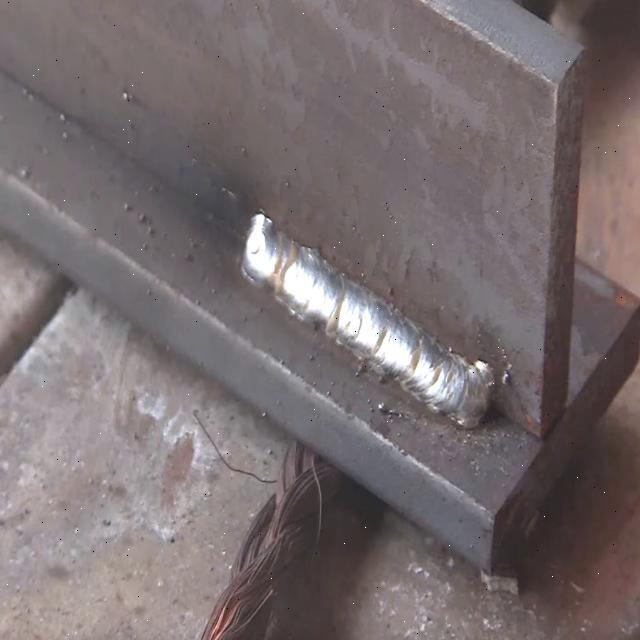Good Welding: (241, 213, 494, 427)
